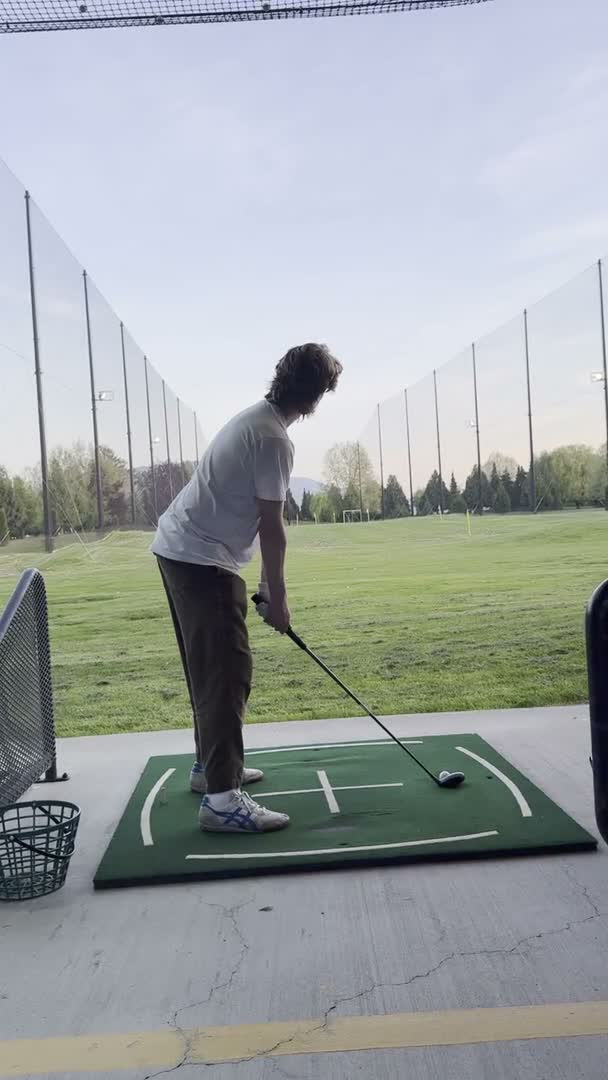Golf Ball: (436, 766, 453, 789)
